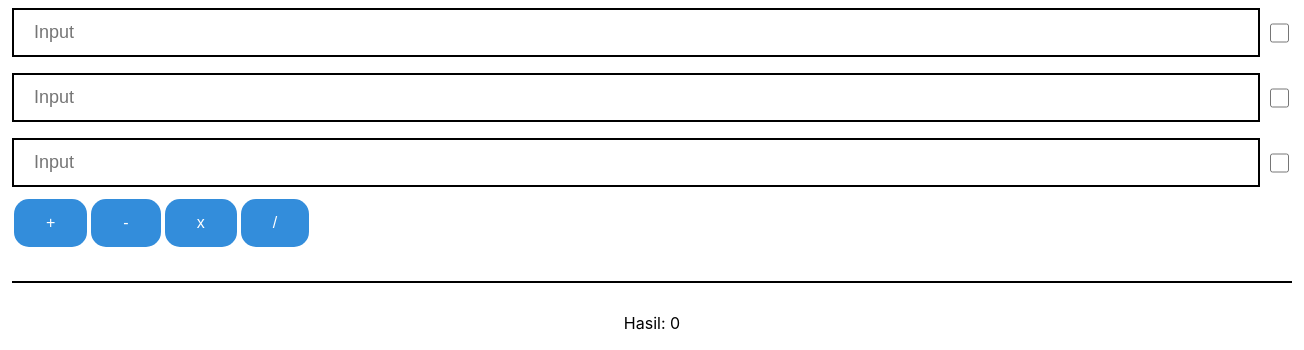
Test: Test substract when all checked
In the 1st number field with placeholder "Input": (636, 32) [12,8,1260,57], type "10"
In the 1st number field with placeholder "Input": (636, 98) [12,73,1260,122], type "2"
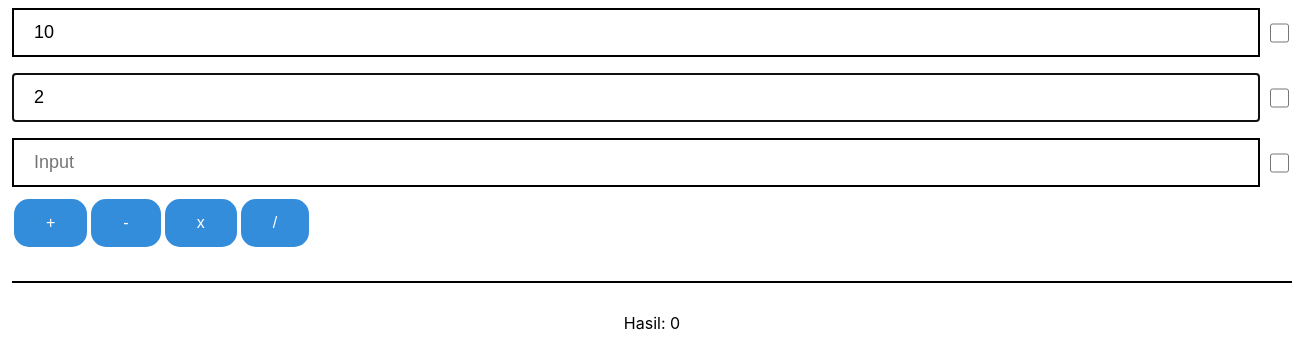
In the number field with placeholder "Input": (636, 162) [12,138,1260,187], type "3"
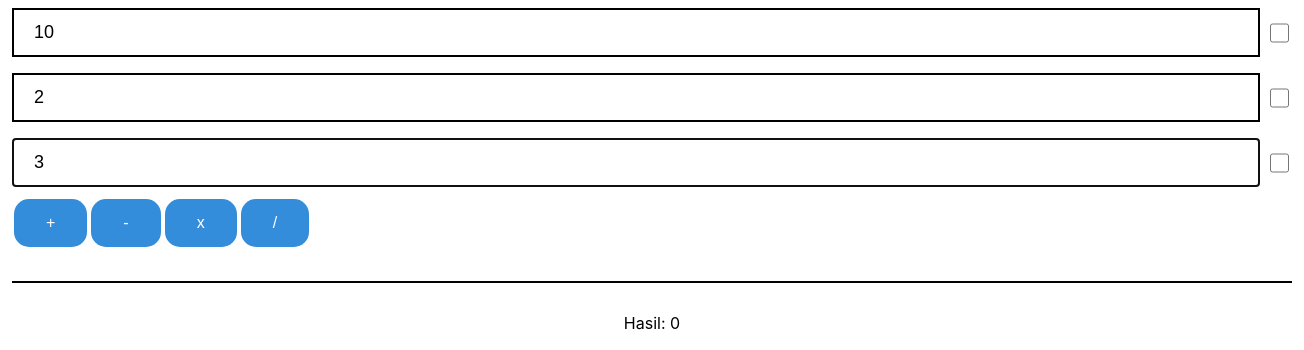
Click the 1st checkbox: click(1279, 32) [1270,22,1289,42]
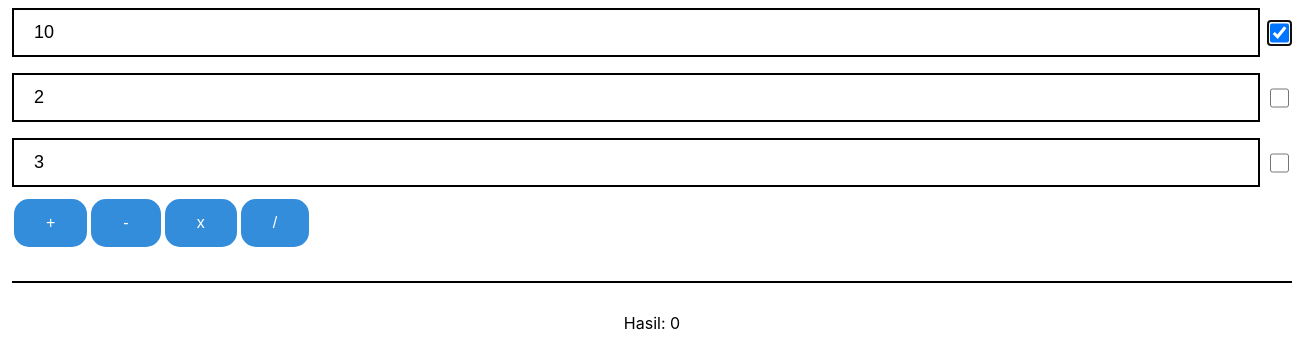
Click the 2nd checkbox: click(1279, 98) [1270,88,1289,108]
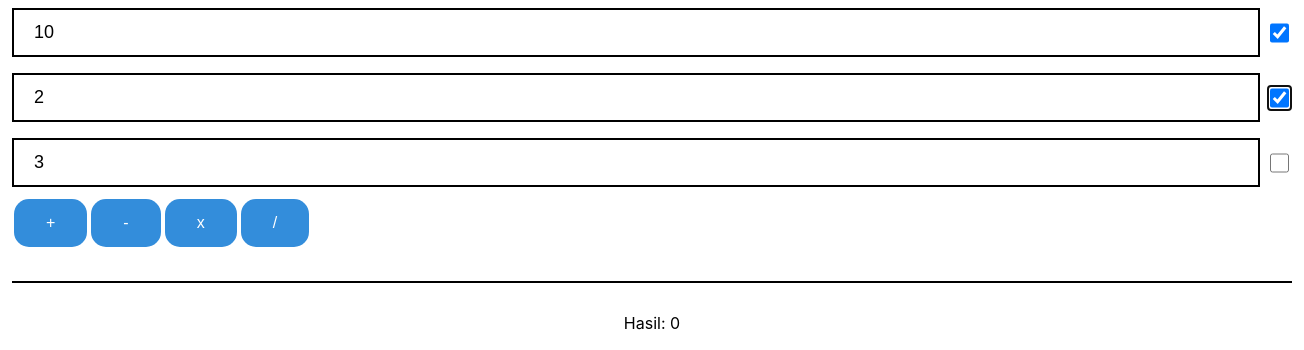
Click the 3rd checkbox: click(1279, 162) [1270,152,1289,172]
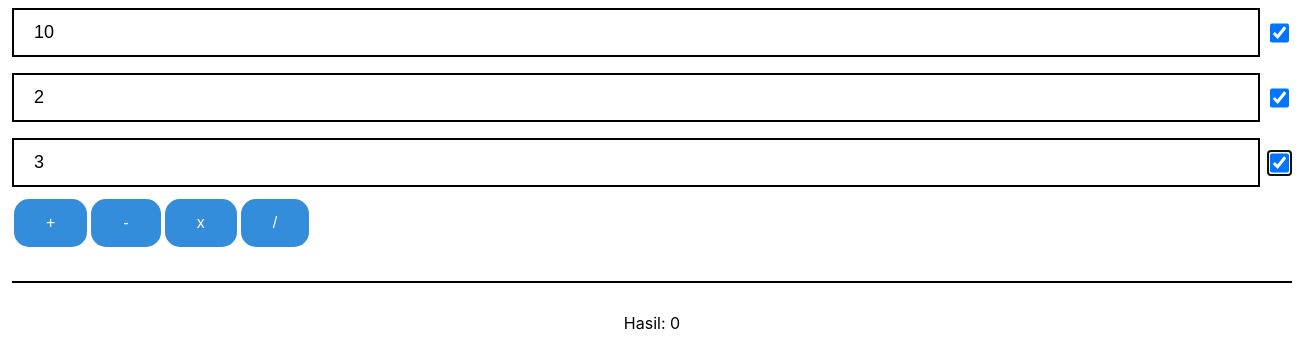
Click the button "-": click(126, 223) [91,199,161,247]
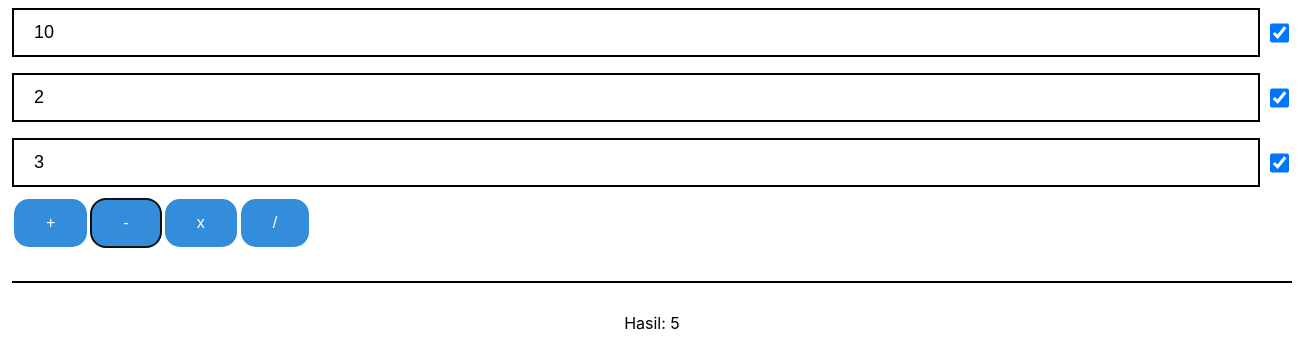
Expected: the text with test id "result-fragment" reads "Hasil: 5", [624,313,680,333]
